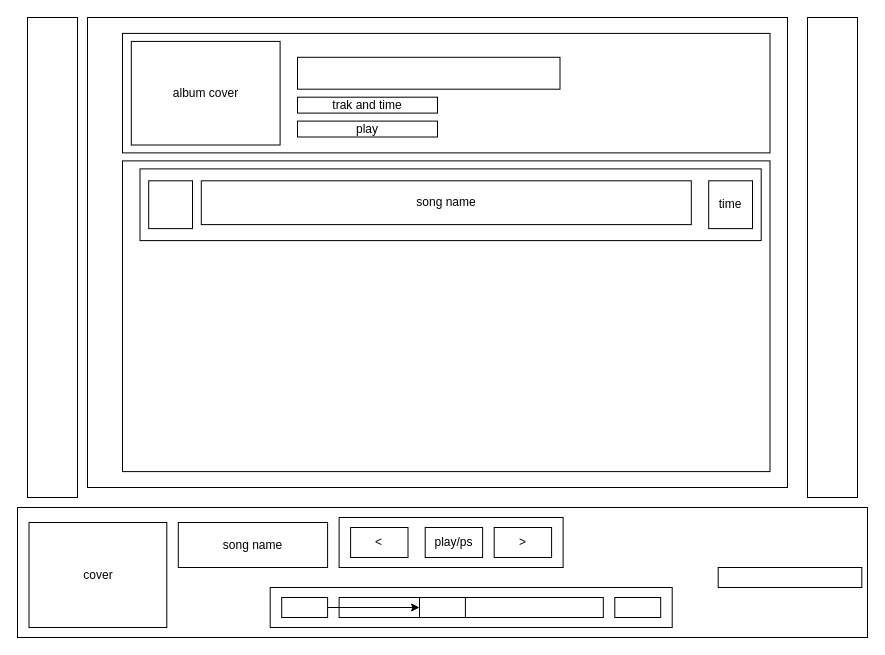
This 885x655 diagram has some shape labels left out. The shapes that lost their labels are listed below. From the top down, each one's centre as x and y in pixels, then its label:
pixel 428 72: album title
pixel 789 577: volume
